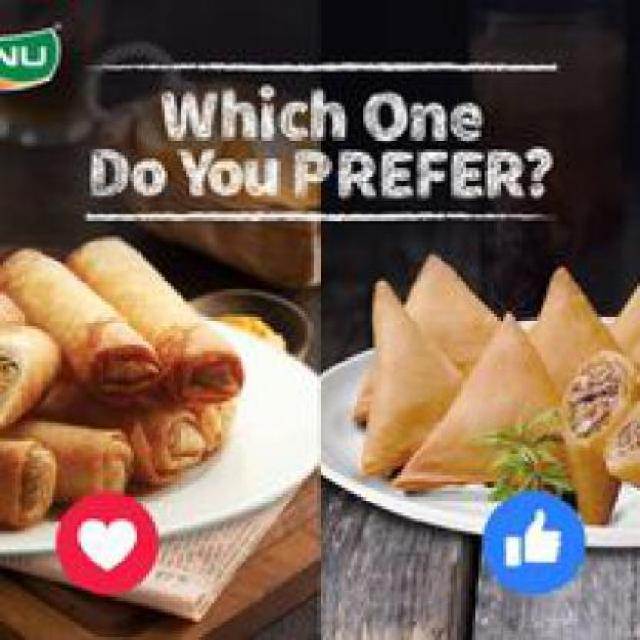samosa: (352, 236, 630, 510)
